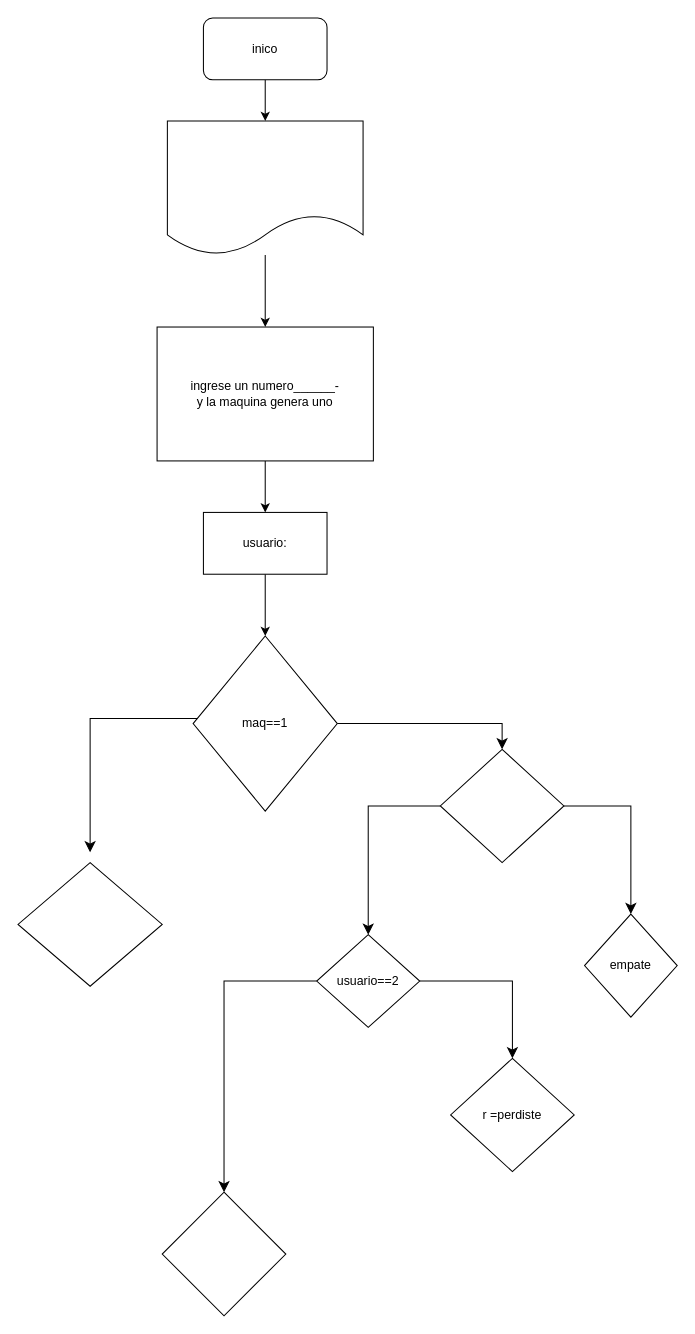
The diagram is 695 pixels wide and 1334 high, and some of its shapes have lost their labels. The shapes that lost their labels are listed below. From the top down, each one's box as (x1, y1, x2, y2) in pixels, then its label:
(166, 120, 363, 255): piedra,papel,tijera 1.tijera 2.papel 3.piedra
(439, 748, 564, 863): usuario==1
(17, 862, 162, 986): maq==2
